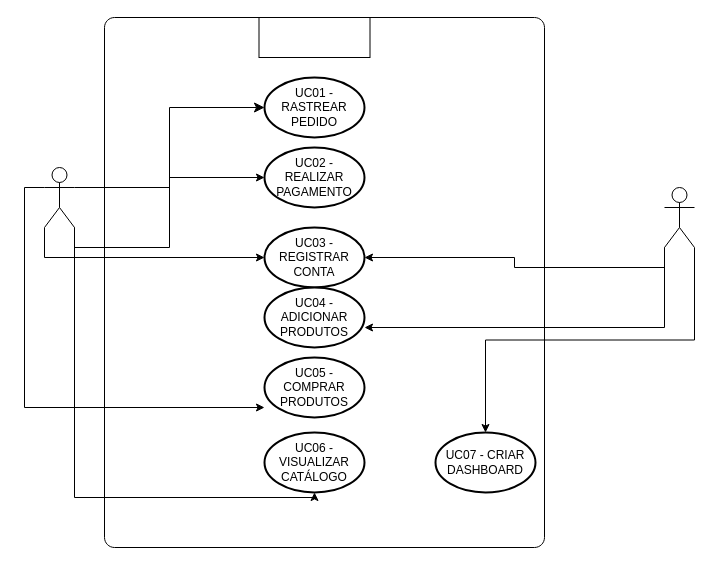
This 725x565 diagram has some shape labels left out. The centre of each missing label's shape, as x and y in pixels:
"Cliente" goes at point (59, 197).
"DirectBrás" goes at point (314, 37).
"Fabricante" goes at point (679, 217).
